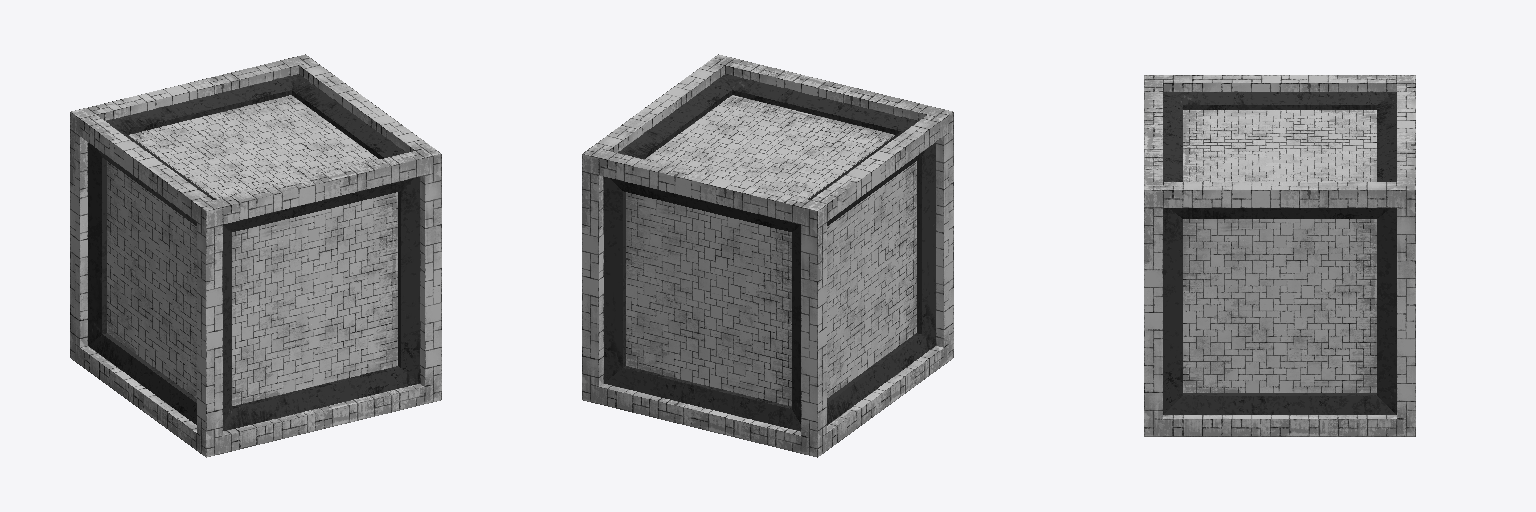
The picture shows the model from 3 angles: view 1: azimuth 30°, elevation 25°; view 2: azimuth 150°, elevation 25°; view 3: azimuth 270°, elevation 25°; orthographic projection.
Visible parts, largest first — view 1: Mesh1 Group1 Model; view 2: Mesh1 Group1 Model; view 3: Mesh1 Group1 Model.
Part boxes in pixels (left/top/right/bottom): Mesh1 Group1 Model: left=70, top=54, right=441, bottom=457; Mesh1 Group1 Model: left=582, top=54, right=953, bottom=457; Mesh1 Group1 Model: left=1144, top=75, right=1415, bottom=436.
Bounding box in the file's own units: 1 × 1 × 1.
Materials: 2 (2 with a texture image).